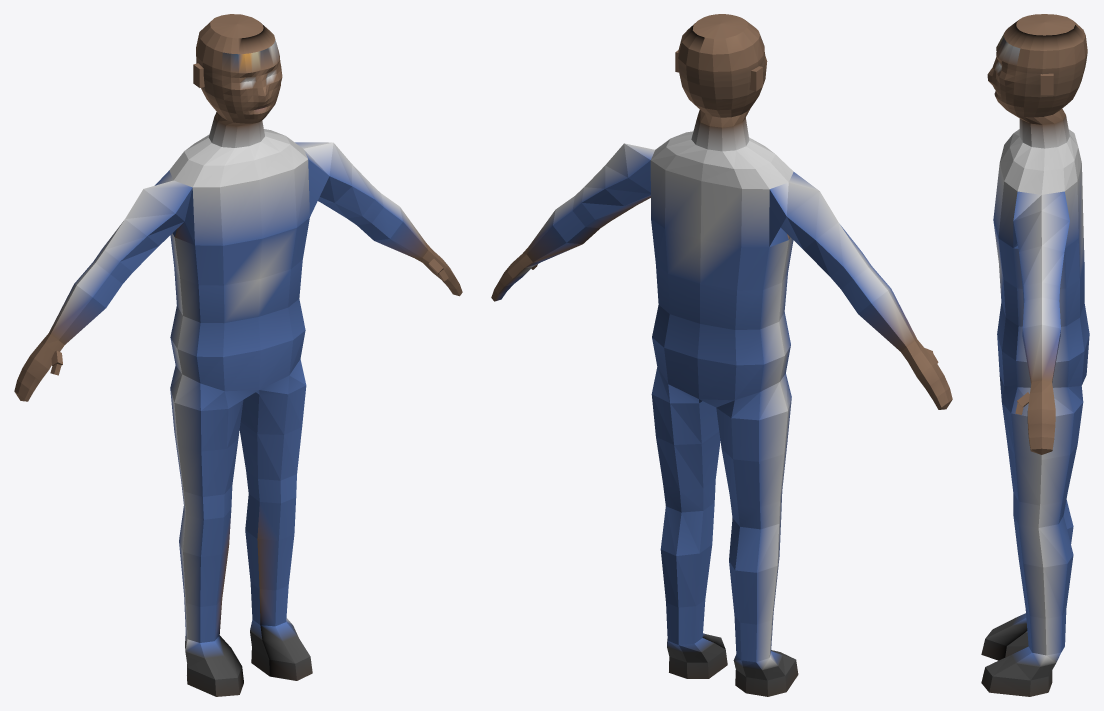
File: char__pessoa__piloto_h02.glb
3 renders of one model, left to right at view 1: azimuth 30°, elevation 25°; view 2: azimuth 150°, elevation 25°; view 3: azimuth 270°, elevation 25°, orthographic. The views are drawn at different scales.
Parts seen in each view (by area): view 1: char__pessoa__piloto_h02; view 2: char__pessoa__piloto_h02; view 3: char__pessoa__piloto_h02.
Boxes of the visible parts, x1=… form: char__pessoa__piloto_h02: x1=14, y1=14, x2=462, y2=696; char__pessoa__piloto_h02: x1=491, y1=14, x2=952, y2=696; char__pessoa__piloto_h02: x1=981, y1=14, x2=1089, y2=696.
Bounding box in the file's own units: 1.3 × 1.82 × 0.2748.
